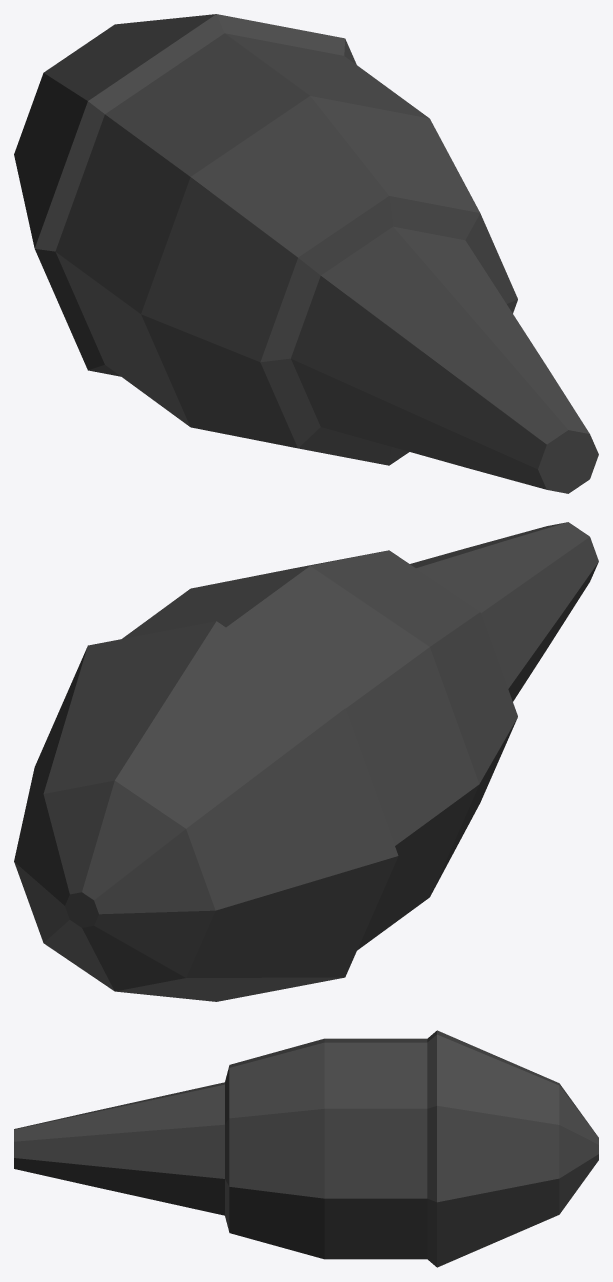
File: SimpleRocket.fbx
The picture shows the model from 3 angles, top to bottom: view 1: azimuth 30°, elevation 25°; view 2: azimuth 150°, elevation 25°; view 3: azimuth 270°, elevation 25°; orthographic projection. The views are drawn at different scales.
Visible parts, largest first — view 1: Cylinder.001; view 2: Cylinder.001; view 3: Cylinder.001.
Boxes of the visible parts, bbox=[...] form: Cylinder.001: bbox=[14, 14, 598, 493]; Cylinder.001: bbox=[14, 522, 598, 1001]; Cylinder.001: bbox=[14, 1030, 598, 1267].
Bounding box in the file's own units: 215 × 215 × 498.
